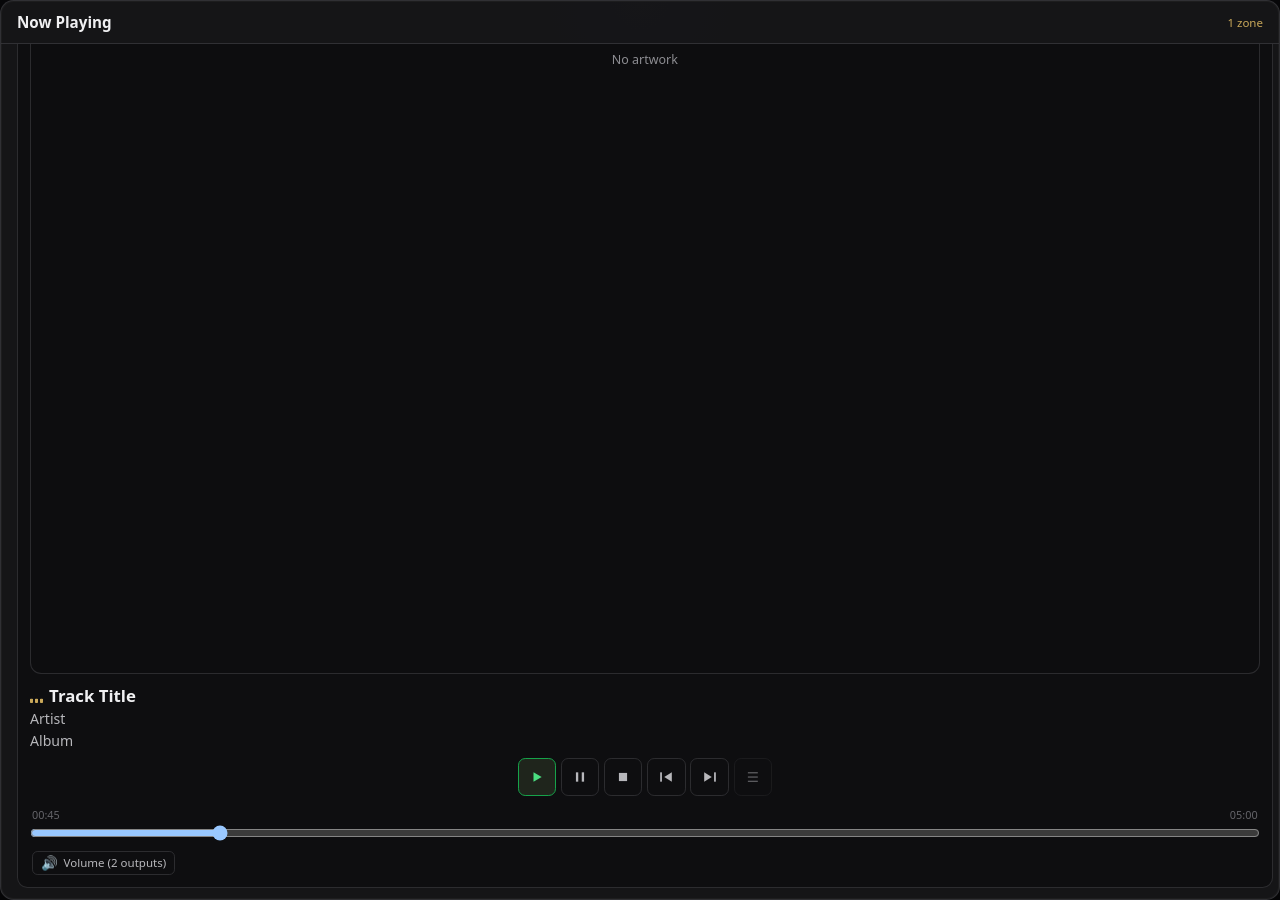
ZoneStatusPanel — volume modal (multi-output) › renders a "Volume (N outputs)" launcher and opens the modal on click
(page scrolled)
What coordinates should you click on to do the following:
click the button "🔊 Volume (2 outputs)"
I would click on:
 (104, 863)
Its box is top-left (32, 851), bottom-right (175, 874).
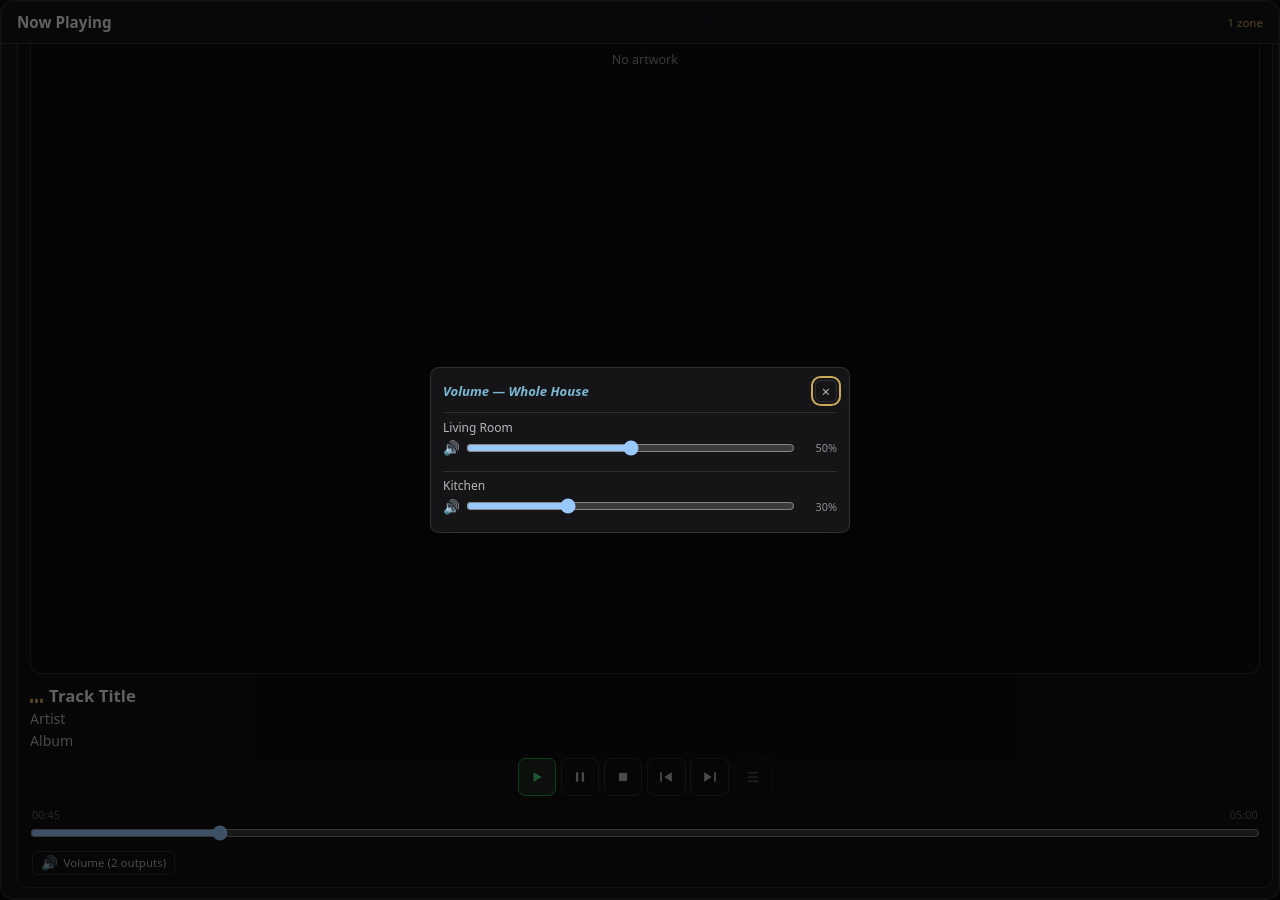
Expected: the slider named "Volume, Living Room" is shown, top-left (466, 440), bottom-right (796, 456)
Expected: the slider named "Volume, Kitchen" is shown, top-left (466, 498), bottom-right (796, 514)
